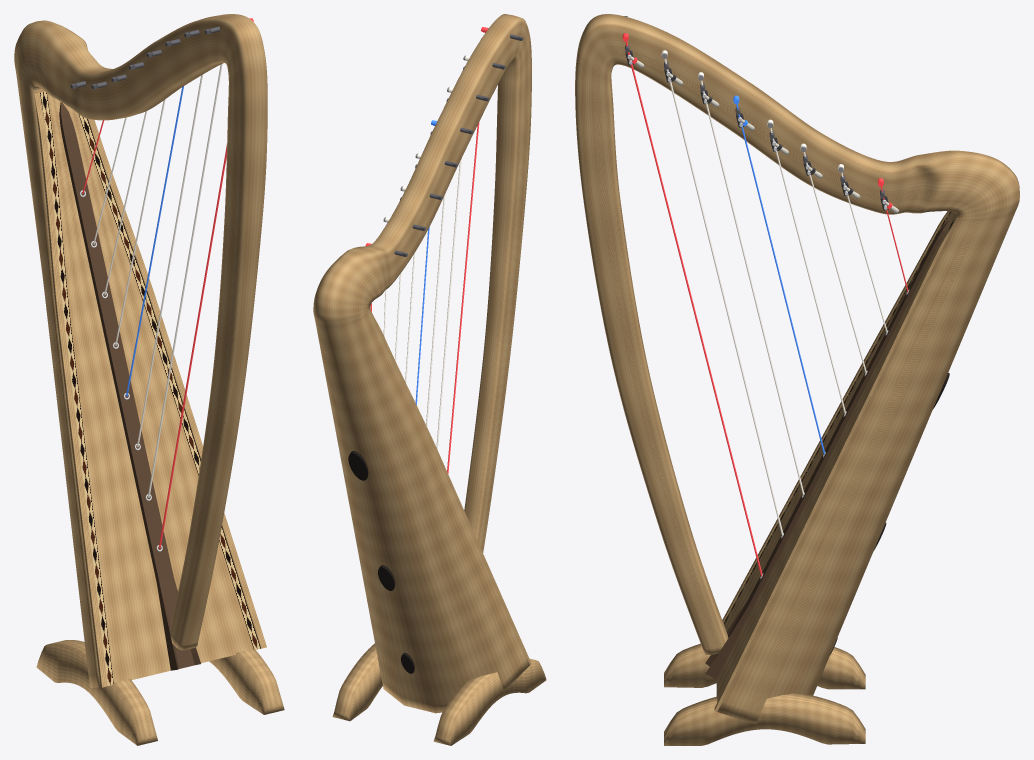
The model's file is celtic_harp_8string.glb.
3 views of the same model, side by side, from view 1: azimuth 30°, elevation 25°; view 2: azimuth 150°, elevation 25°; view 3: azimuth 270°, elevation 25° (orthographic). The views are drawn at different scales.
Visible parts, largest first — view 1: Harp_Harmonic_Frame, Harp_Soundboard_Face, Harp_Central_String_Rib, Harp_Soundboard_EdgeRail_-1, Harp_Leg_1, Harp_Diamond_Purfling_-1, Harp_Diamond_Purfling_1, Harp_Soundboard_EdgeRail_1, Harp_Leg_2, String_2, String_1, String_3 (+2 smaller); view 2: Harp_Harmonic_Frame, Harp_Leg_1, Harp_Leg_2, Harp_Soundboard_EdgeRail_-1, String_1, String_2, String_3, Harp_Rear_Soundhole_3; view 3: Harp_Harmonic_Frame, Harp_Leg_2, Harp_Soundboard_Face, Harp_Central_String_Rib, Harp_Leg_1, Harp_Soundboard_EdgeRail_1, Harp_Soundboard_EdgeRail_-1, String_1, String_2, String_3, Harp_Diamond_Purfling_-1, String_4.
Part boxes in pixels (x1,y1,x2,y2): Harp_Harmonic_Frame: [14, 14, 267, 687]; Harp_Soundboard_Face: [47, 93, 253, 682]; Harp_Central_String_Rib: [59, 102, 200, 670]; Harp_Soundboard_EdgeRail_-1: [34, 92, 107, 687]; Harp_Leg_1: [36, 640, 157, 745]; Harp_Diamond_Purfling_-1: [40, 91, 113, 685]; Harp_Diamond_Purfling_1: [78, 114, 260, 649]; Harp_Soundboard_EdgeRail_1: [87, 118, 266, 648]; Harp_Leg_2: [209, 648, 284, 714]; String_2: [148, 64, 222, 497]; String_1: [159, 145, 226, 548]; String_3: [137, 74, 202, 447]; Harp_Harmonic_Frame: [313, 14, 531, 713]; Harp_Leg_1: [433, 658, 546, 745]; Harp_Leg_2: [332, 643, 382, 721]; Harp_Soundboard_EdgeRail_-1: [371, 312, 531, 664]; String_1: [447, 122, 479, 473]; String_2: [436, 159, 461, 449]; String_3: [426, 194, 445, 426]; Harp_Rear_Soundhole_3: [348, 451, 368, 480]; Harp_Harmonic_Frame: [575, 14, 1019, 723]; Harp_Leg_2: [664, 692, 865, 745]; Harp_Soundboard_Face: [716, 212, 955, 701]; Harp_Central_String_Rib: [705, 220, 949, 679]; Harp_Leg_1: [664, 643, 865, 689]; Harp_Soundboard_EdgeRail_1: [714, 218, 955, 711]; Harp_Soundboard_EdgeRail_-1: [722, 211, 949, 622]; String_1: [627, 52, 762, 576]; String_2: [666, 69, 783, 535]; String_3: [702, 91, 803, 495]; Harp_Diamond_Purfling_-1: [723, 211, 951, 624]; String_4: [738, 114, 824, 454].
Bounding box in the file's own units: 0.324 × 1.37 × 0.7946.
Materials: 15 (2 with a texture image).
